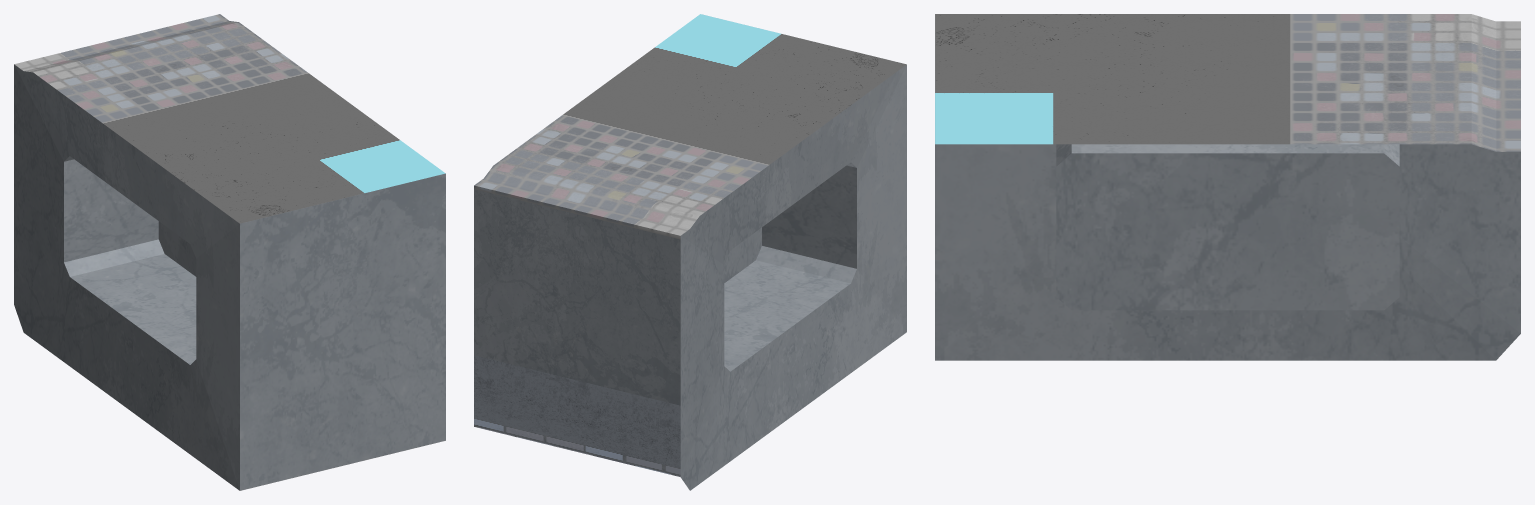
The model's file is frame1.fbx.
3 views of the same model, side by side, from view 1: azimuth 30°, elevation 25°; view 2: azimuth 150°, elevation 25°; view 3: azimuth 270°, elevation 25° (orthographic). The views are drawn at different scales.
Parts seen in each view (by area): view 1: frame1; view 2: frame1; view 3: frame1.
Part boxes in pixels (x1=…): frame1: x1=14, y1=14, x2=445, y2=490; frame1: x1=474, y1=14, x2=906, y2=490; frame1: x1=935, y1=14, x2=1520, y2=360.
Bounding box in the file's own units: 175 × 217 × 333.
Materials: 1 (1 with a texture image).
